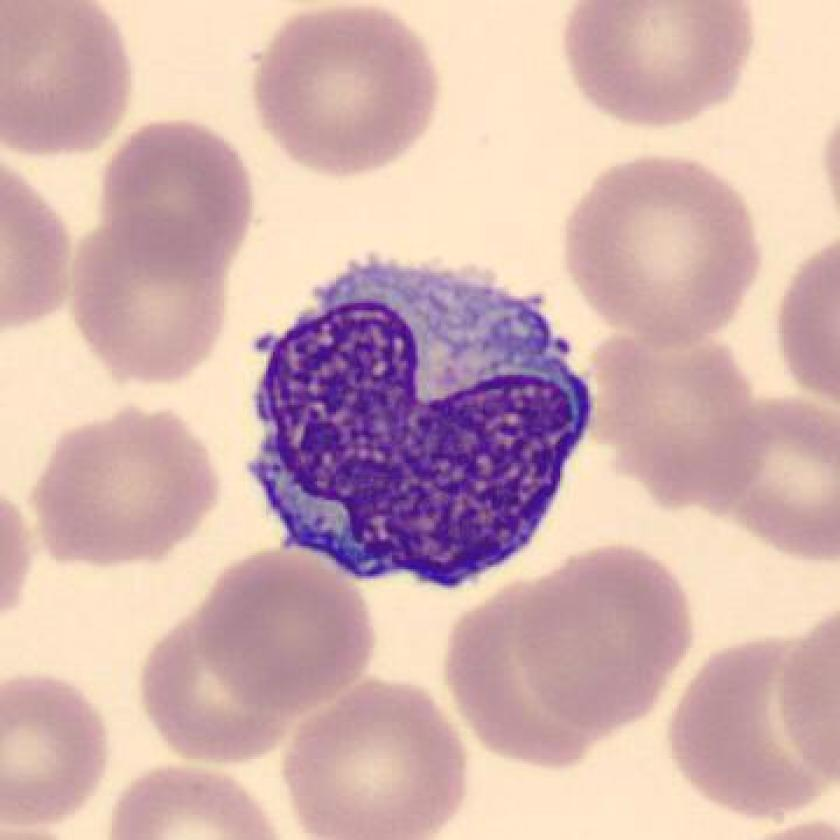monocyte: (230, 244, 610, 607)
